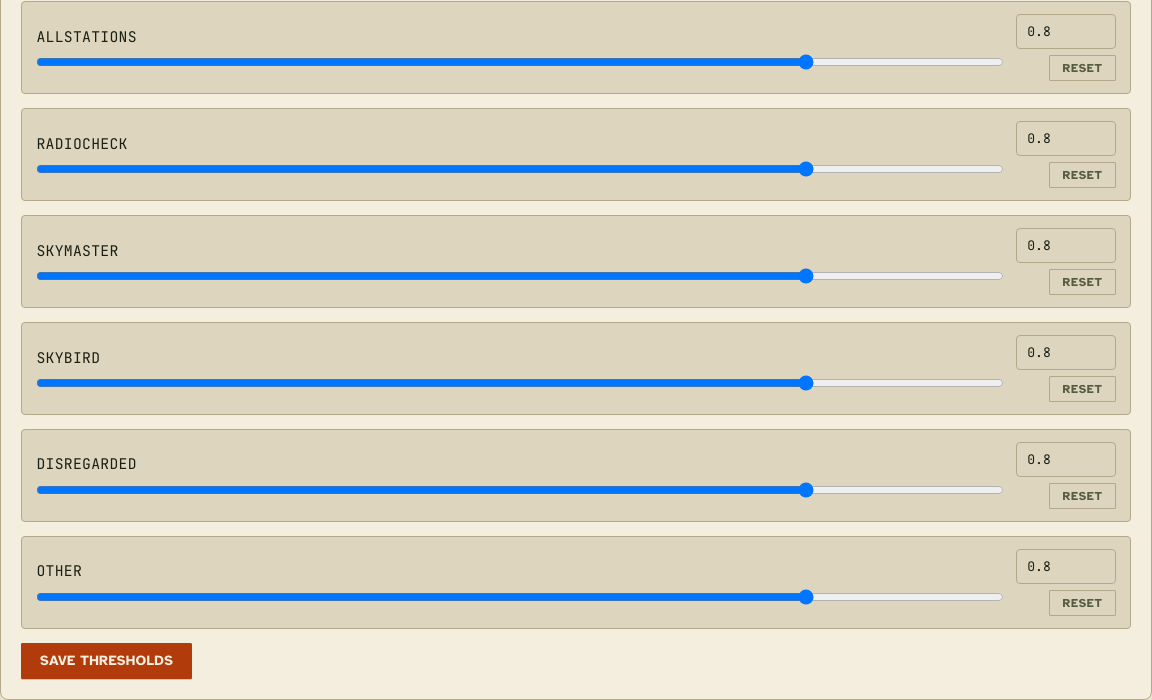
it: LinguisticThresholdsEditor › surfaces a save error
(page scrolled)
Click the button "Save thresholds" at (107, 661), box [21,643,192,679]
(page scrolled)
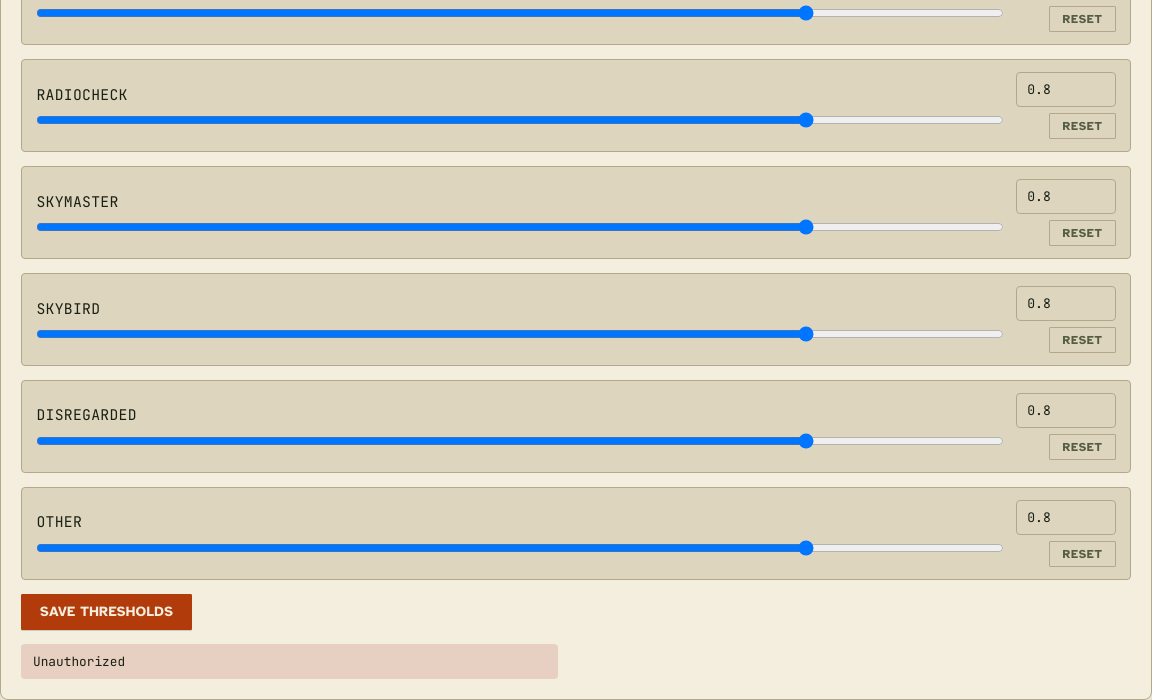
Now the message reads "Unauthorized", box [33,653,125,670]
